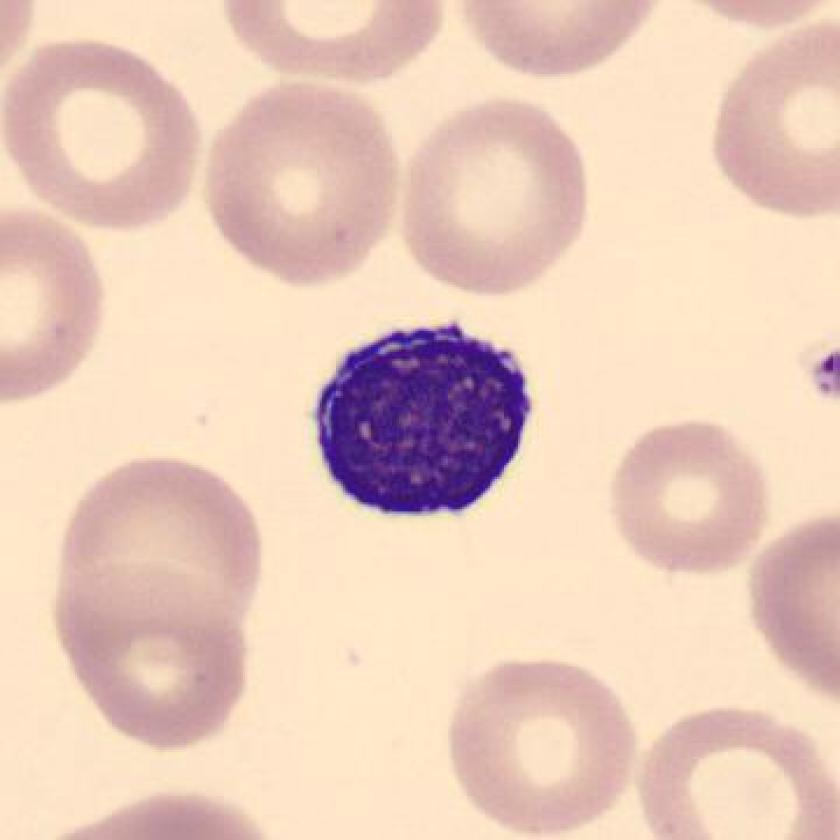lymphocyte: (300, 307, 552, 536)
